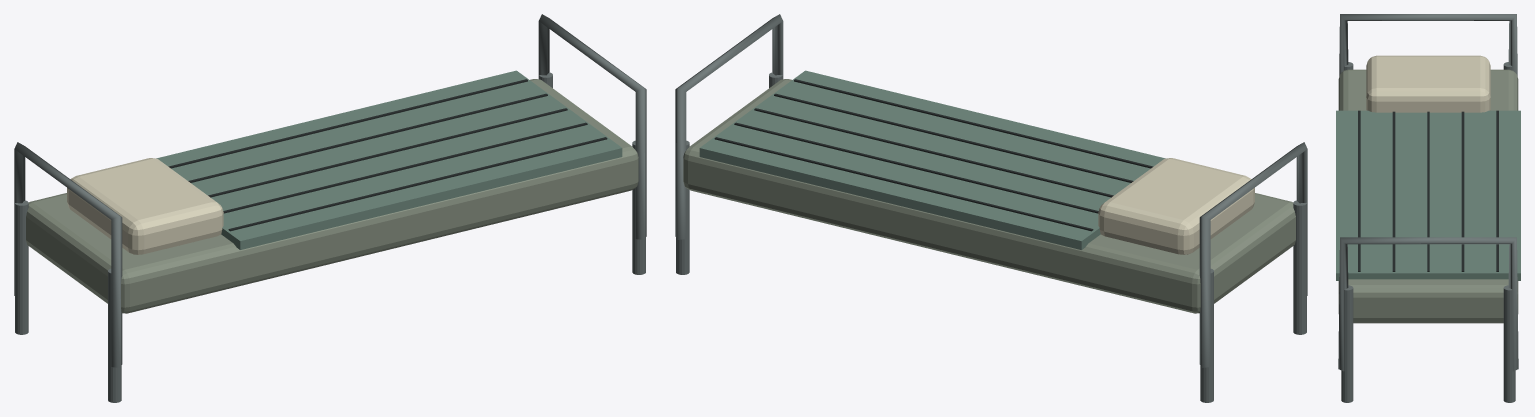
The model's file is cot.glb.
3 renders of one model, left to right at view 1: azimuth 30°, elevation 25°; view 2: azimuth 150°, elevation 25°; view 3: azimuth 270°, elevation 25°, orthographic. The views are drawn at different scales.
Parts seen in each view (by area): view 1: cot; view 2: cot; view 3: cot.
Part boxes in pixels (x1,y1,x2,y2): cot: (14,14,646,402); cot: (675,14,1307,402); cot: (1336,14,1520,402).
Bounding box in the file's own units: 3.13 × 1.04 × 1.07.
